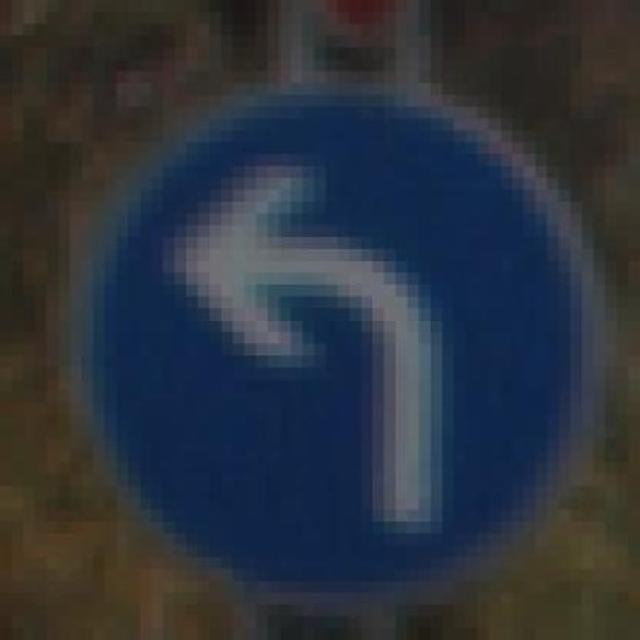Turn left ahead: (69, 70, 617, 582)
